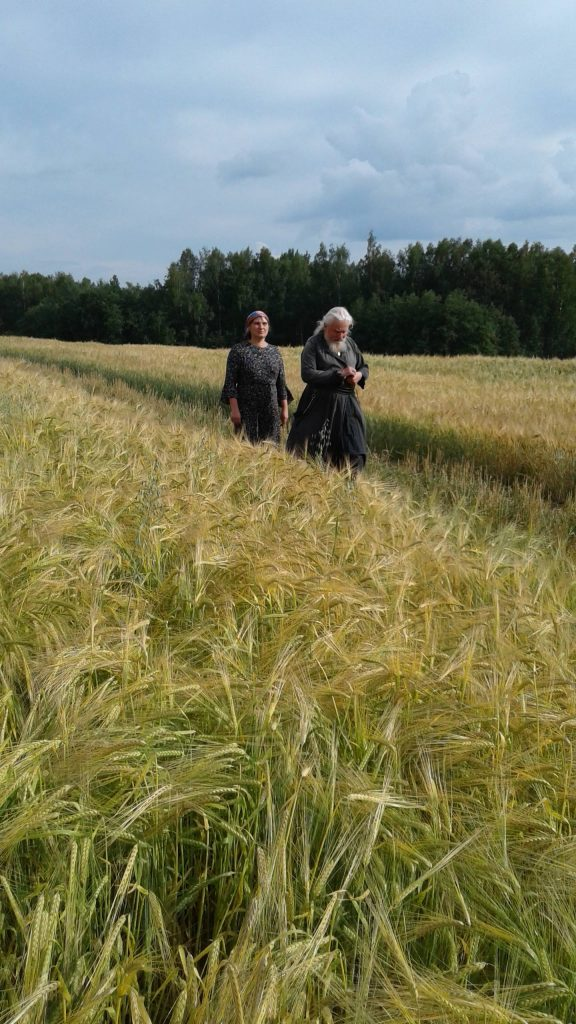person: (293, 296, 394, 477), (214, 282, 294, 458)
